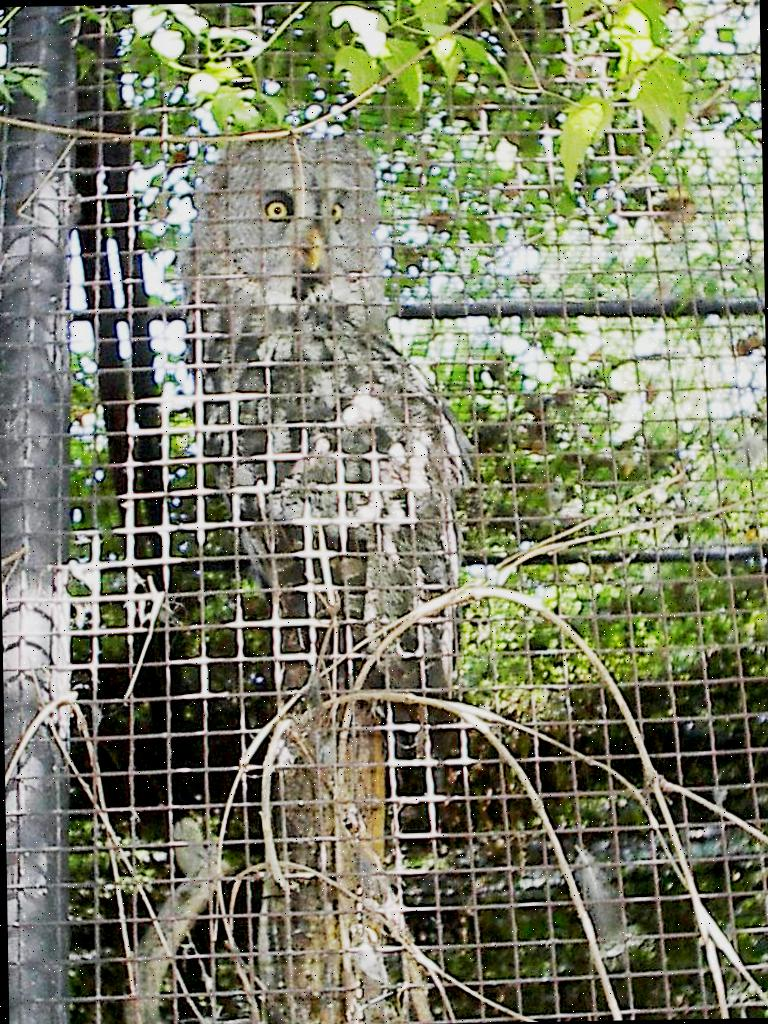Owl: (136, 126, 478, 796)
